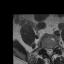CCS_normal: (48, 46, 50, 57)
LFS_normal: (52, 44, 55, 52)
LLS_normal: (50, 46, 53, 55)
RFS_normal: (44, 45, 46, 52)
RLS_normal: (46, 46, 48, 56)
